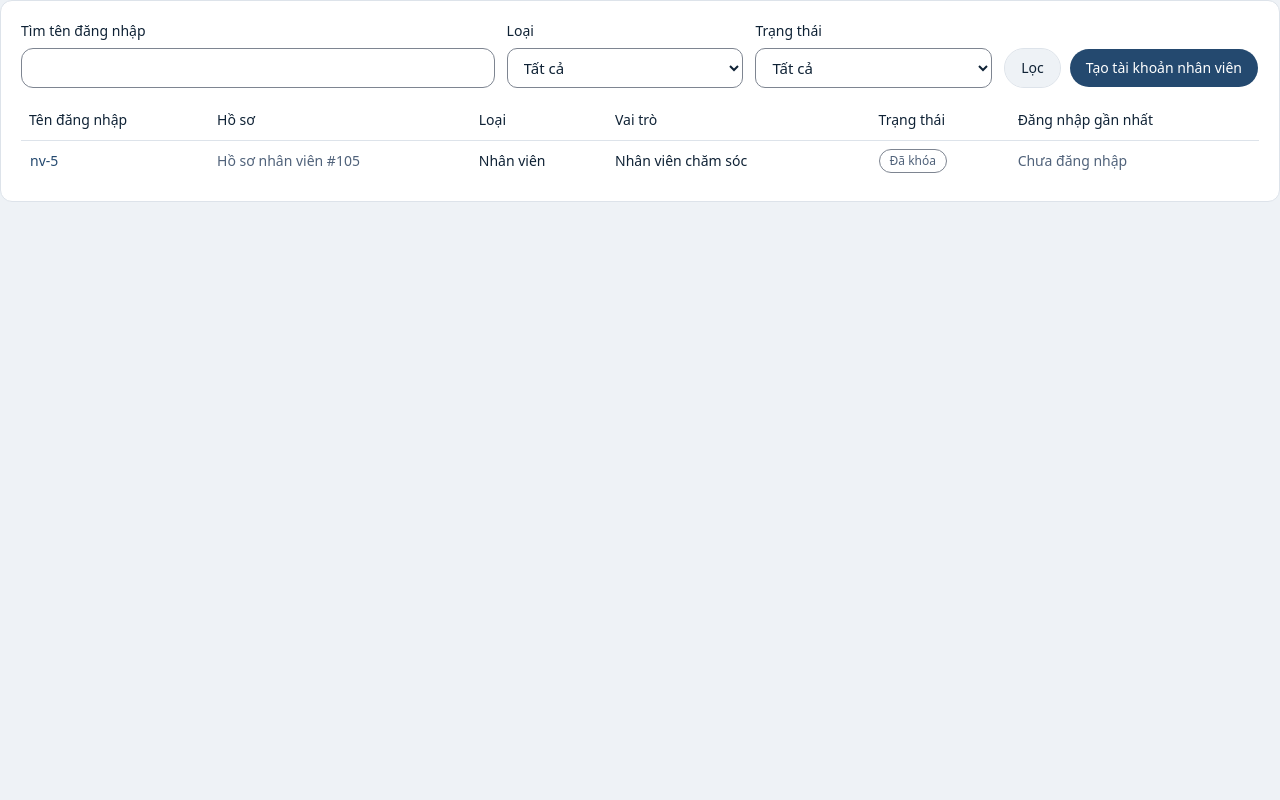
it: AccountList › FR_042_nutLenhTheoAllowedCommands
The image size is (1280, 800).
Click the button "nv-5" at coordinates (44, 161), box [29,150,59,172]
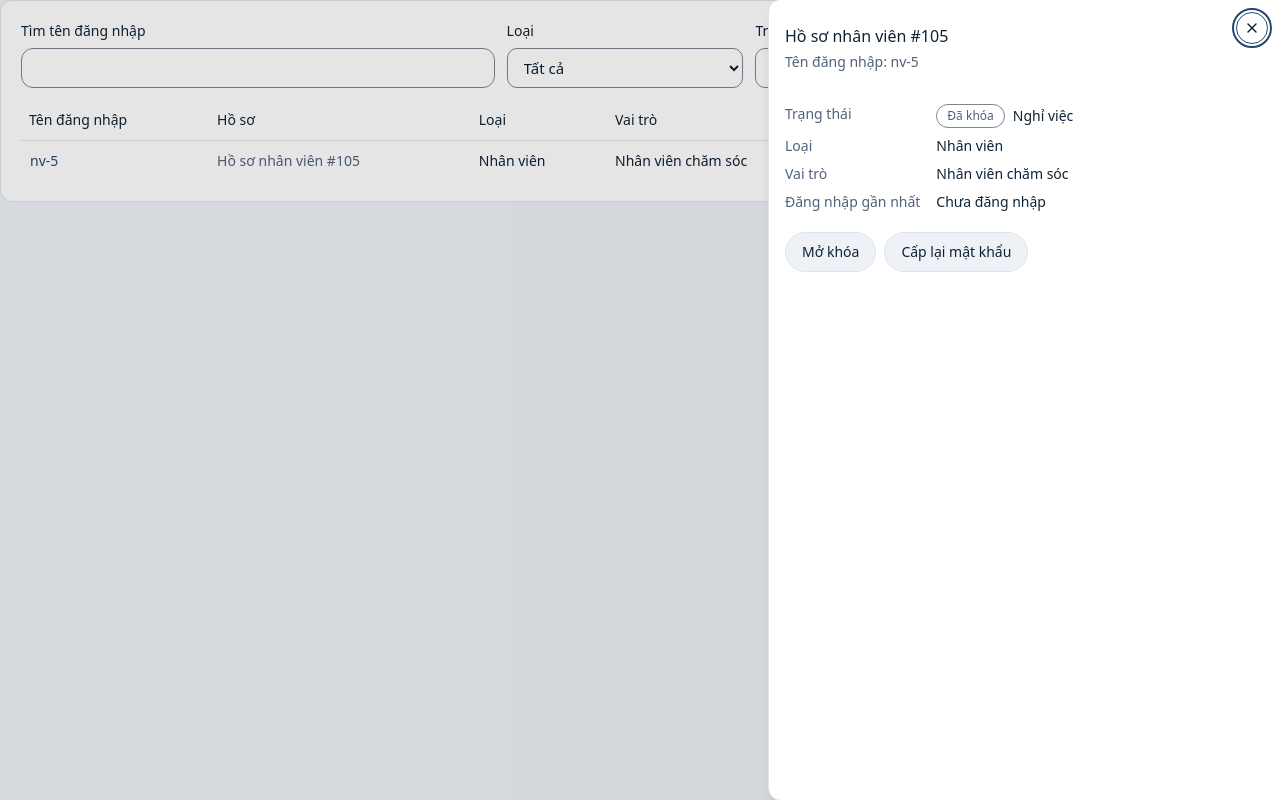
Expected: the button "Mở khóa" is shown, [785,232,876,272]
Expected: the text "Nghỉ việc" is shown, [1013,106,1073,126]
Expected: the button "Cấp lại mật khẩu" is shown, [884,232,1028,272]
